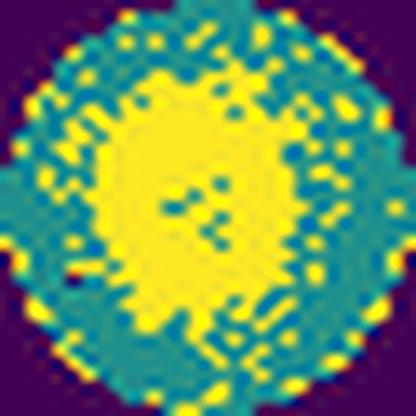Center: (74, 66, 322, 342)
